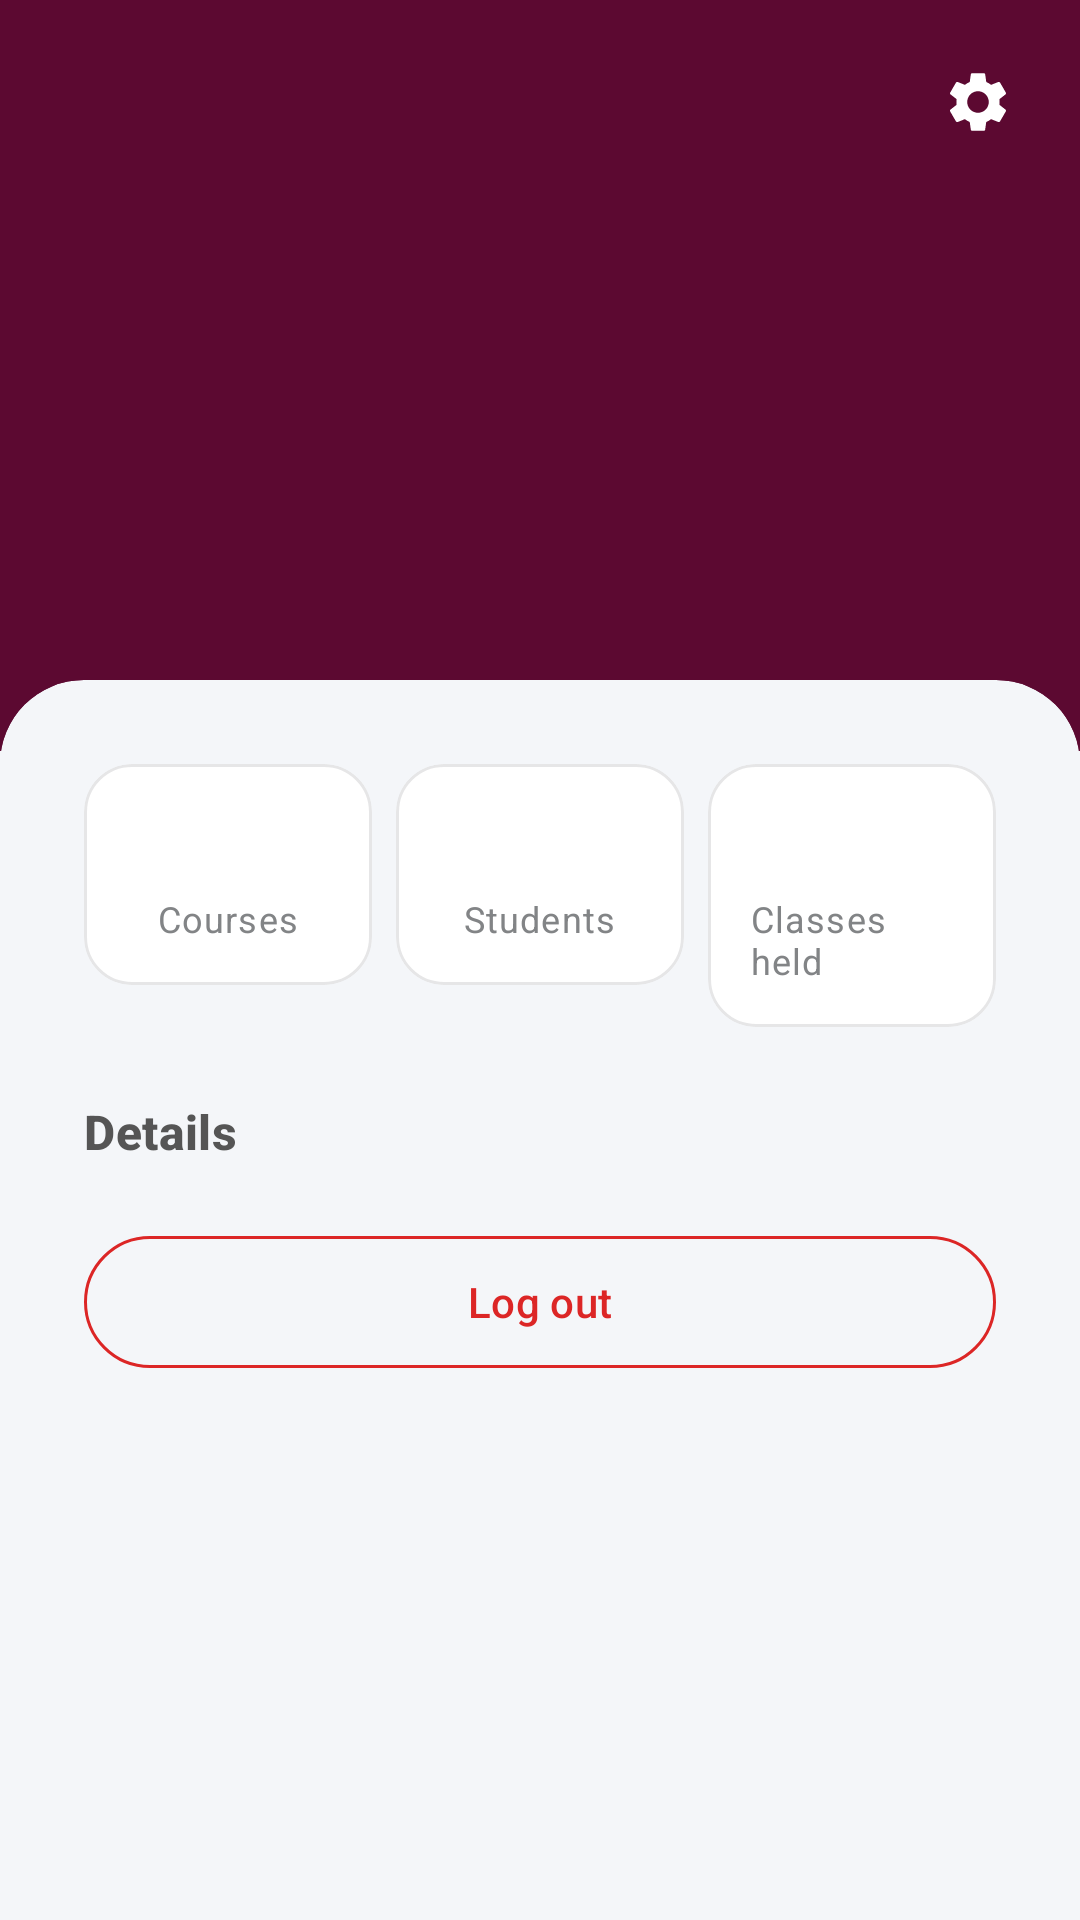

Locate icon controls on the screen. Image size 1080×1920, boxes as (x1, y1, x2, y2).
Settings: (950, 73, 1006, 131)
